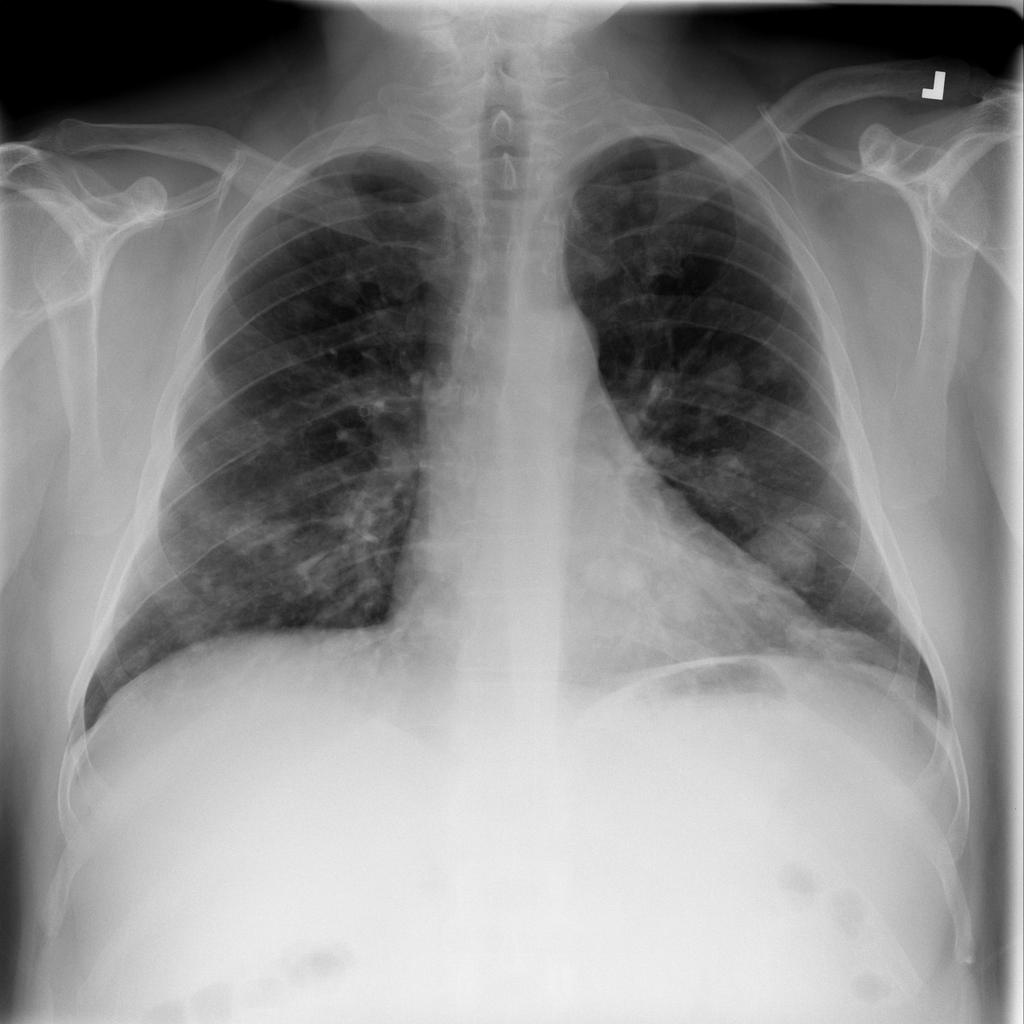nodule: (734, 498, 838, 605), (689, 443, 762, 517), (763, 603, 847, 666), (586, 544, 660, 613), (644, 566, 717, 633), (691, 340, 756, 409)
